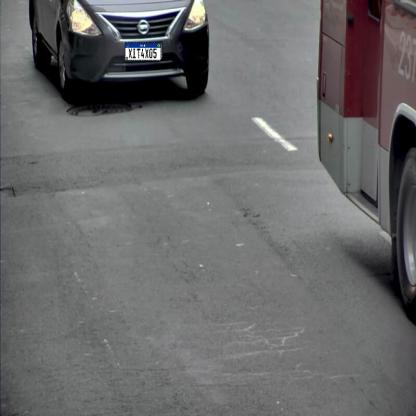PlacaM: (125, 42, 161, 61)
